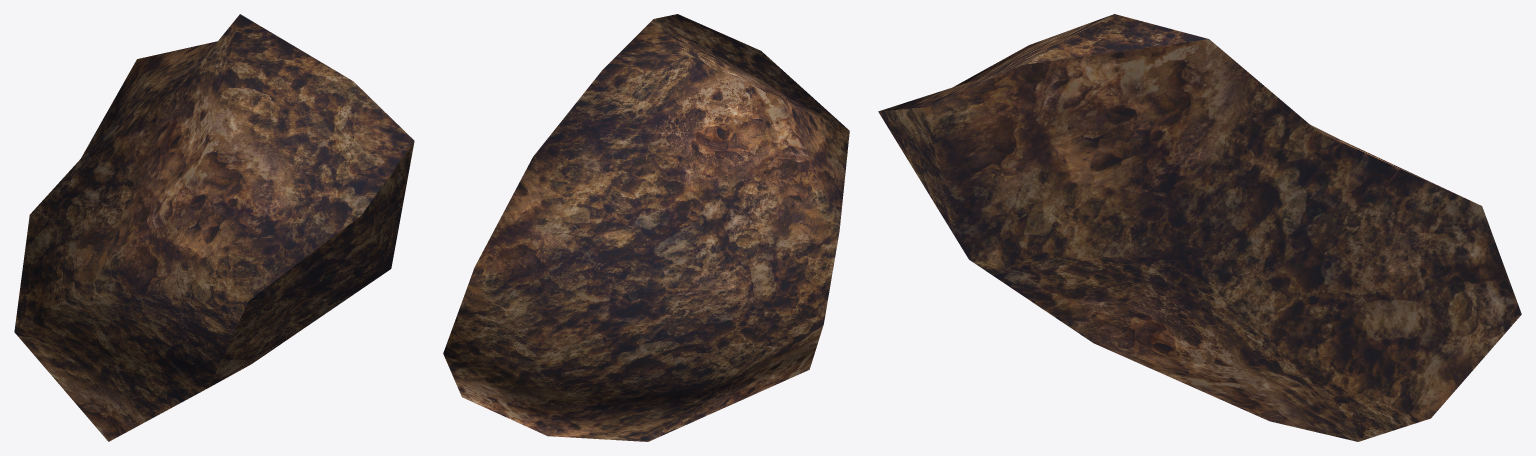
Rendered from stg600_obj_meteoriteA_bp3.obj.
3 renders of one model, left to right at view 1: azimuth 30°, elevation 25°; view 2: azimuth 150°, elevation 25°; view 3: azimuth 270°, elevation 25°, orthographic. The views are drawn at different scales.
Visible parts, largest first — view 1: polygon0, polygon1; view 2: polygon0; view 3: polygon1, polygon0.
Part boxes in pixels (left/top/right/bottom): polygon0: left=14, top=14, right=414, bottom=441; polygon1: left=209, top=141, right=414, bottom=387; polygon0: left=443, top=14, right=849, bottom=441; polygon1: left=878, top=39, right=1521, bottom=441; polygon0: left=879, top=14, right=1472, bottom=201.
Size of the model in its own units: 33.29 by 41.24 by 56.62.
2 materials, 2 textured.
